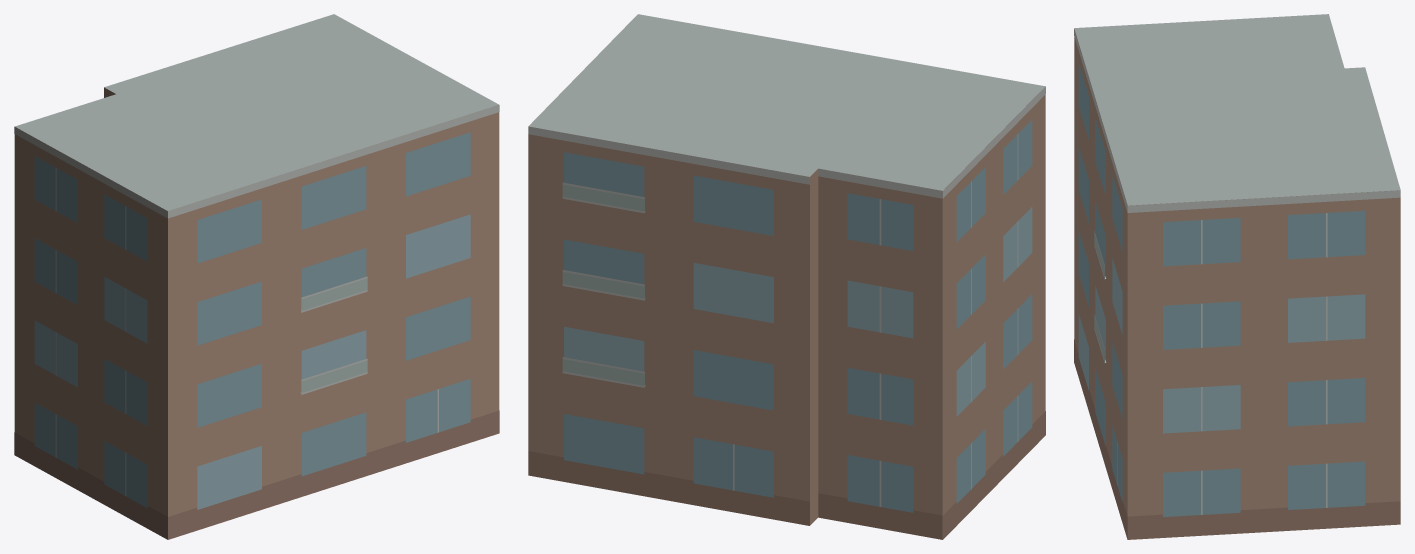
The model's file is survey-upis-32668195.glb.
The picture shows the model from 3 angles, left to right: view 1: azimuth 30°, elevation 25°; view 2: azimuth 150°, elevation 25°; view 3: azimuth 270°, elevation 25°; orthographic projection. The views are drawn at different scales.
Parts seen in each view (by area): view 1: survey-upis-32668195.tmp; view 2: survey-upis-32668195.tmp; view 3: survey-upis-32668195.tmp.
Boxes of the visible parts, left/top/right/bottom form: survey-upis-32668195.tmp: left=14, top=14, right=499, bottom=539; survey-upis-32668195.tmp: left=528, top=14, right=1045, bottom=539; survey-upis-32668195.tmp: left=1074, top=14, right=1400, bottom=539.
Size of the model in its own units: 13.47 by 10.95 by 9.71.
